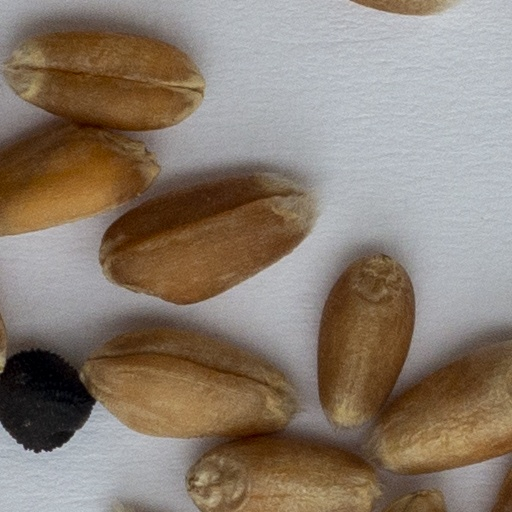Agrostemma-poly: (0, 340, 96, 454)
